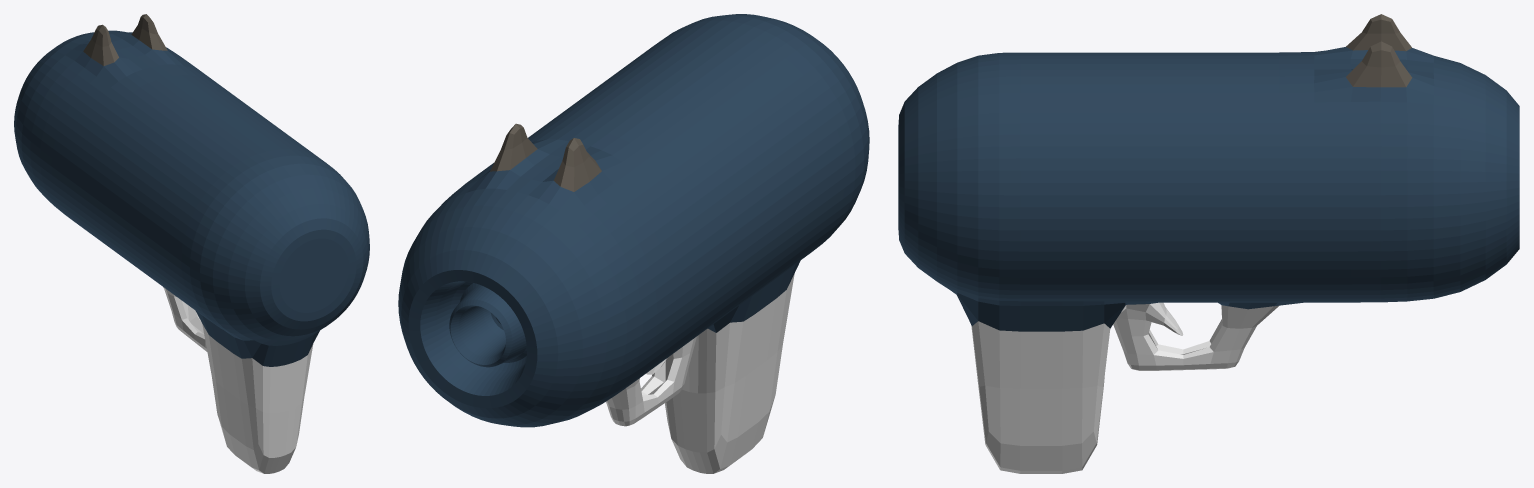
The model's file is _eapon1.fbx.
3 renders of one model, left to right at view 1: azimuth 30°, elevation 25°; view 2: azimuth 150°, elevation 25°; view 3: azimuth 270°, elevation 25°, orthographic. The views are drawn at different scales.
Parts seen in each view (by area): view 1: Cylinder; view 2: Cylinder; view 3: Cylinder.
Boxes of the visible parts, left/top/right/bottom form: Cylinder: left=14, top=14, right=369, bottom=473; Cylinder: left=398, top=14, right=869, bottom=473; Cylinder: left=898, top=14, right=1519, bottom=473.
Bounding box in the file's own units: 50.67 × 98.82 × 126.
